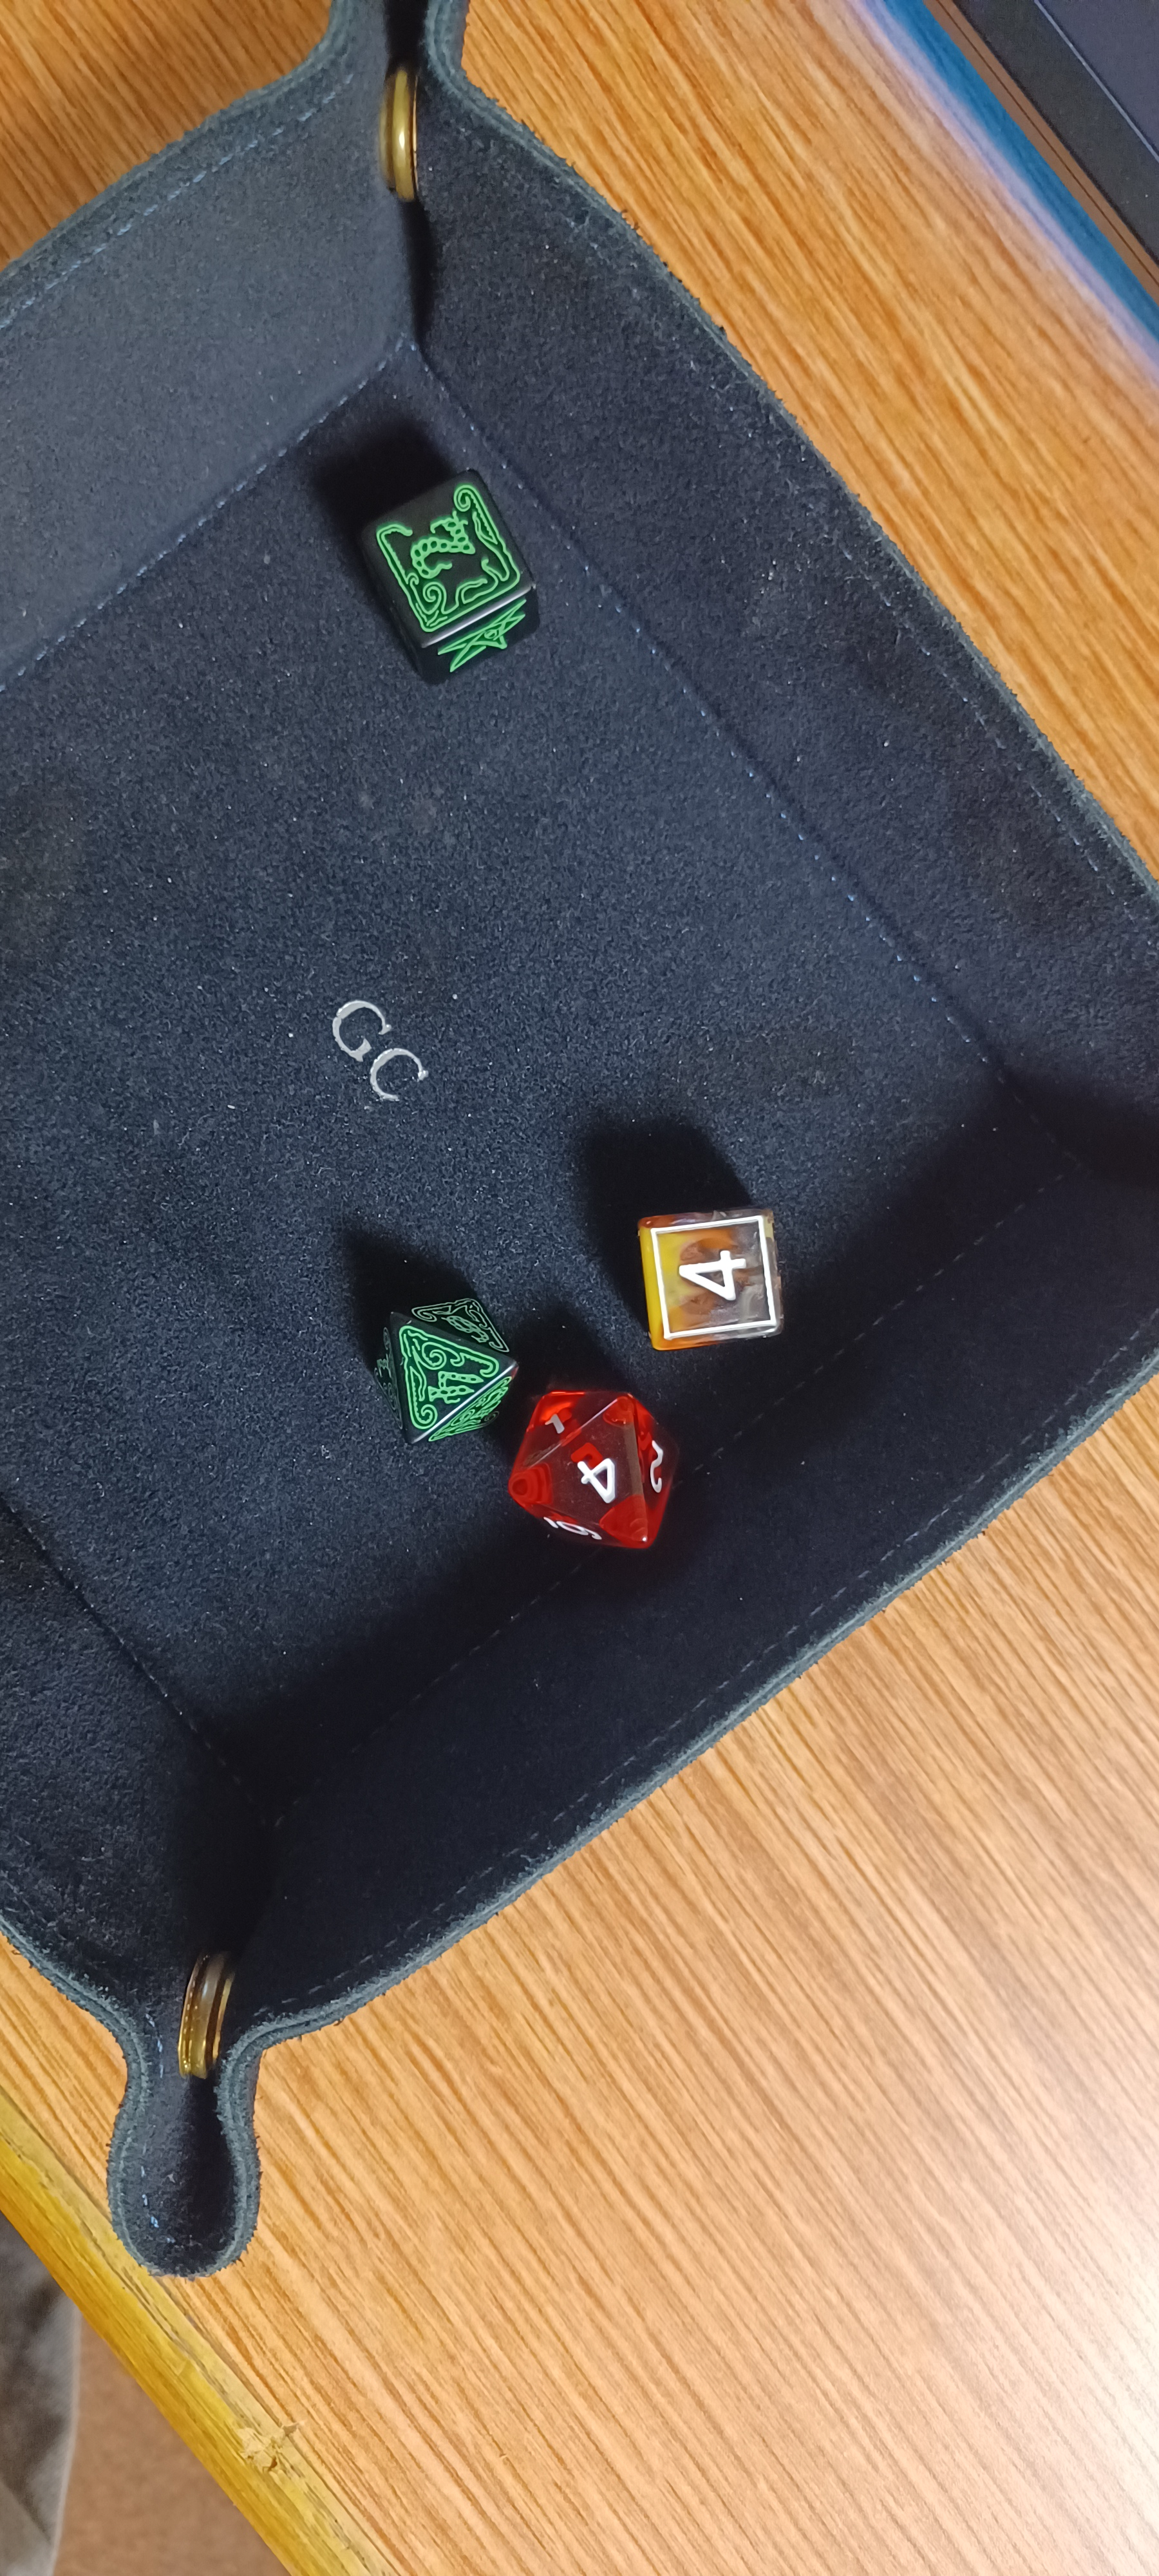four: (598, 1158, 836, 1391), (494, 1357, 726, 1582), (345, 1281, 535, 1460)
two: (335, 447, 586, 713)
